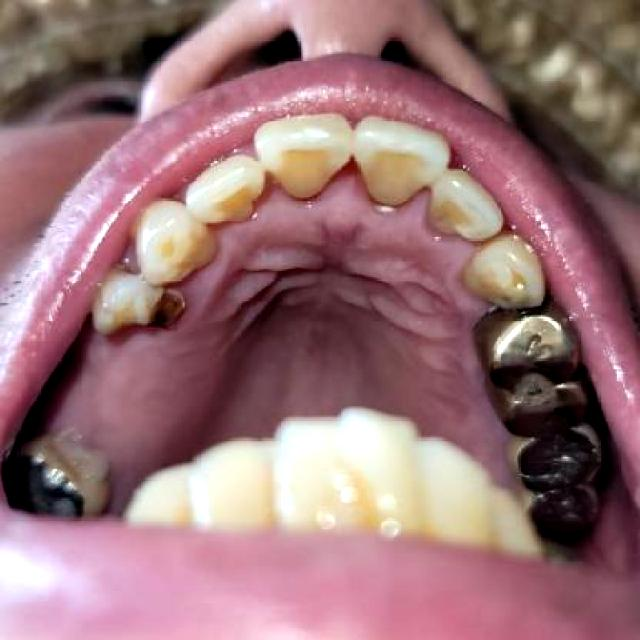Plaque: (145, 285, 187, 333)
